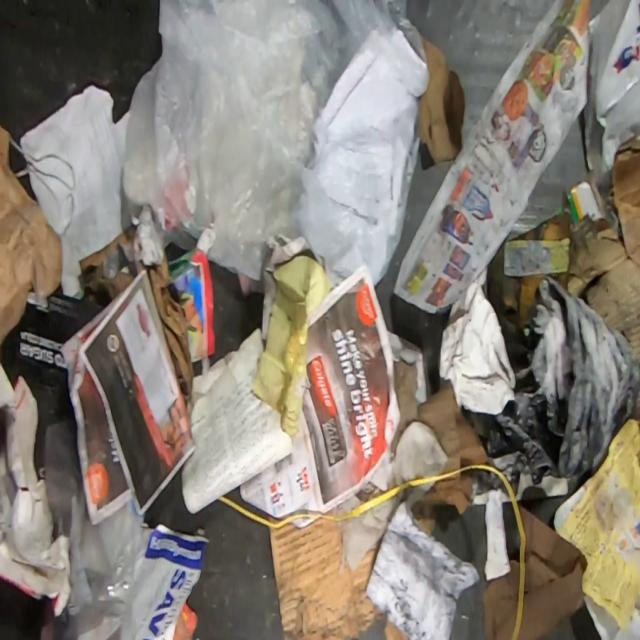cardboard: (568, 135, 640, 363), (267, 508, 384, 639), (482, 503, 588, 638), (0, 128, 62, 346), (409, 500, 439, 538)
soft_plastic: (122, 0, 428, 294), (42, 417, 150, 640)
